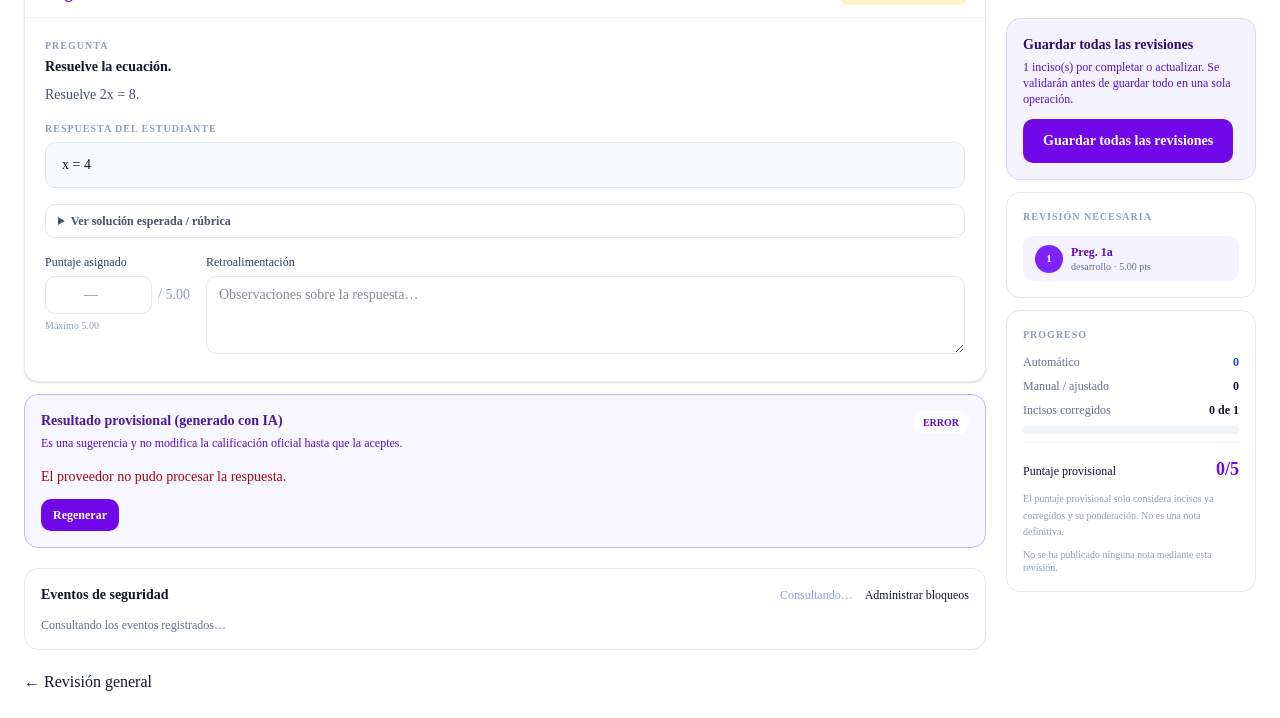
Scenario: RevisionEstudiante — propuestas de corrección IA › muestra el error del worker y permite regenerar
The image size is (1280, 718).
(page scrolled)
expect the text "El proveedor no pudo procesar la respuesta." is shown: met, box [41,469,286,484]
expect the heading "Resultado provisional (generado con IA)" is shown: met, box [41,413,283,428]
Step 1. Click the button "Regenerar" → point(80, 515), box [41,499,119,531]
(page scrolled)
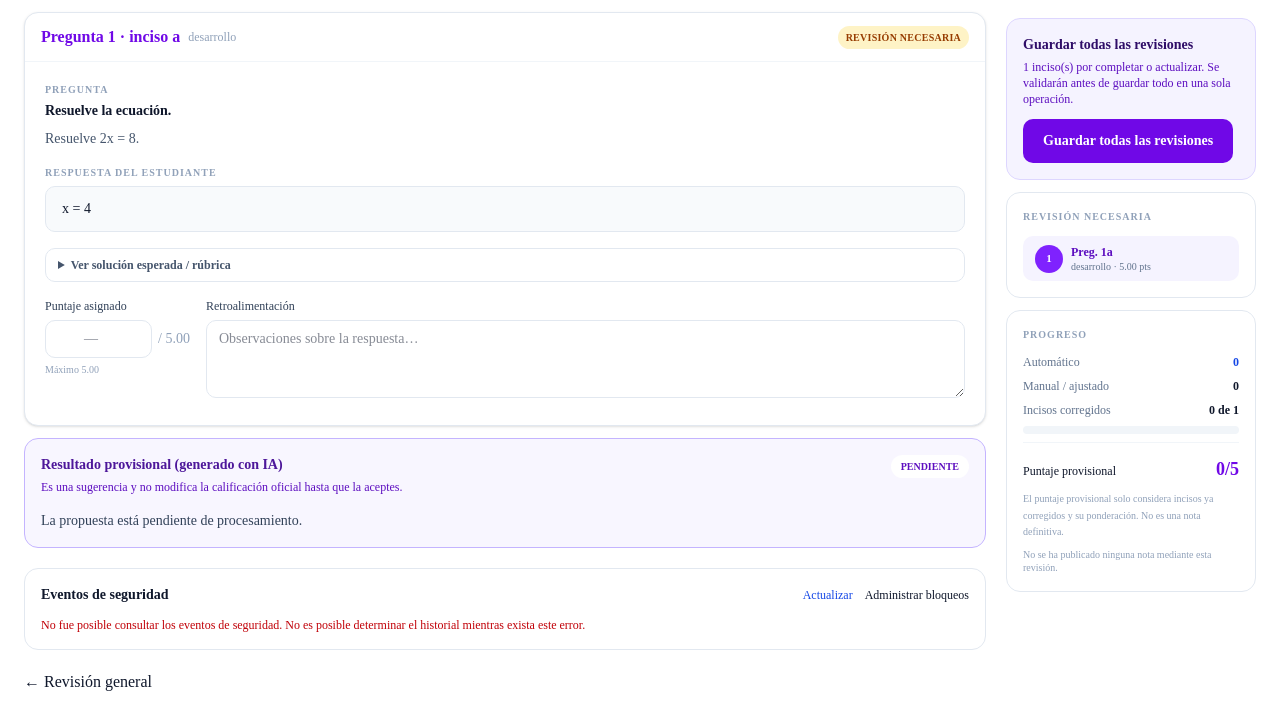
expect the text "La propuesta está pendiente de procesamiento." is shown: met, box [41,513,302,528]
